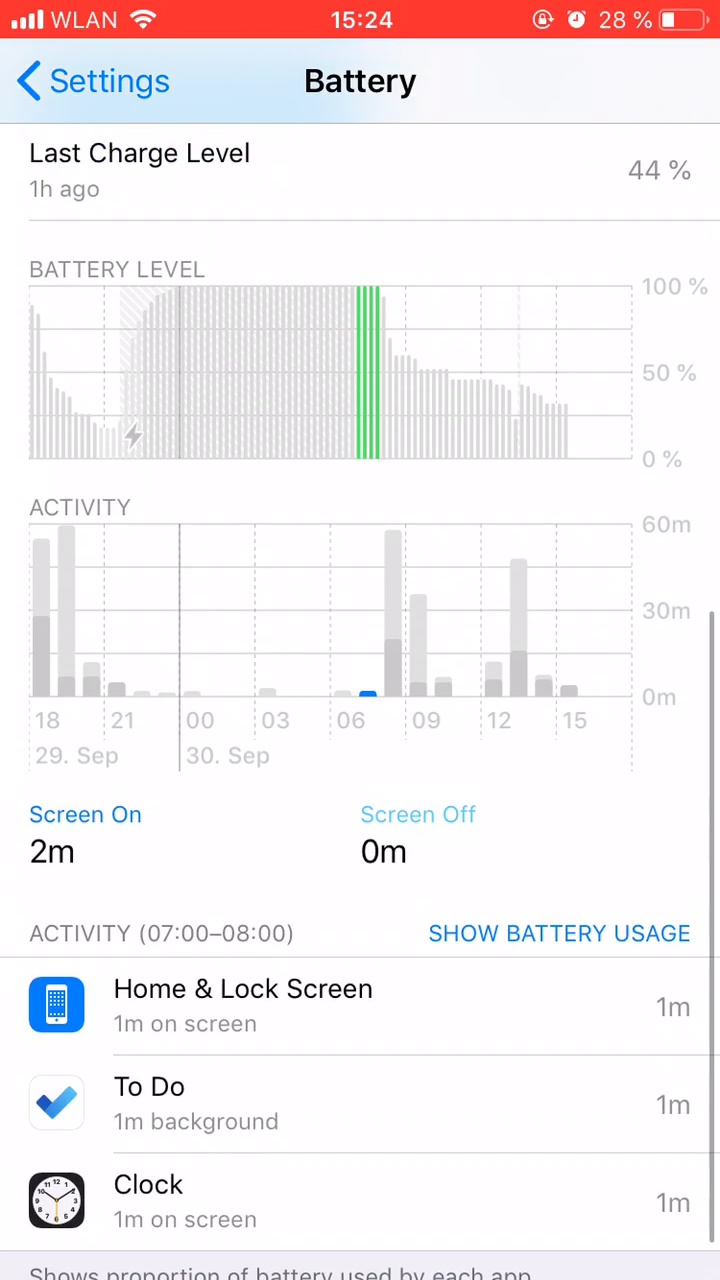activity: (24, 906, 340, 955)
app: (19, 971, 702, 1052), (25, 1069, 698, 1136), (25, 1165, 698, 1232)
